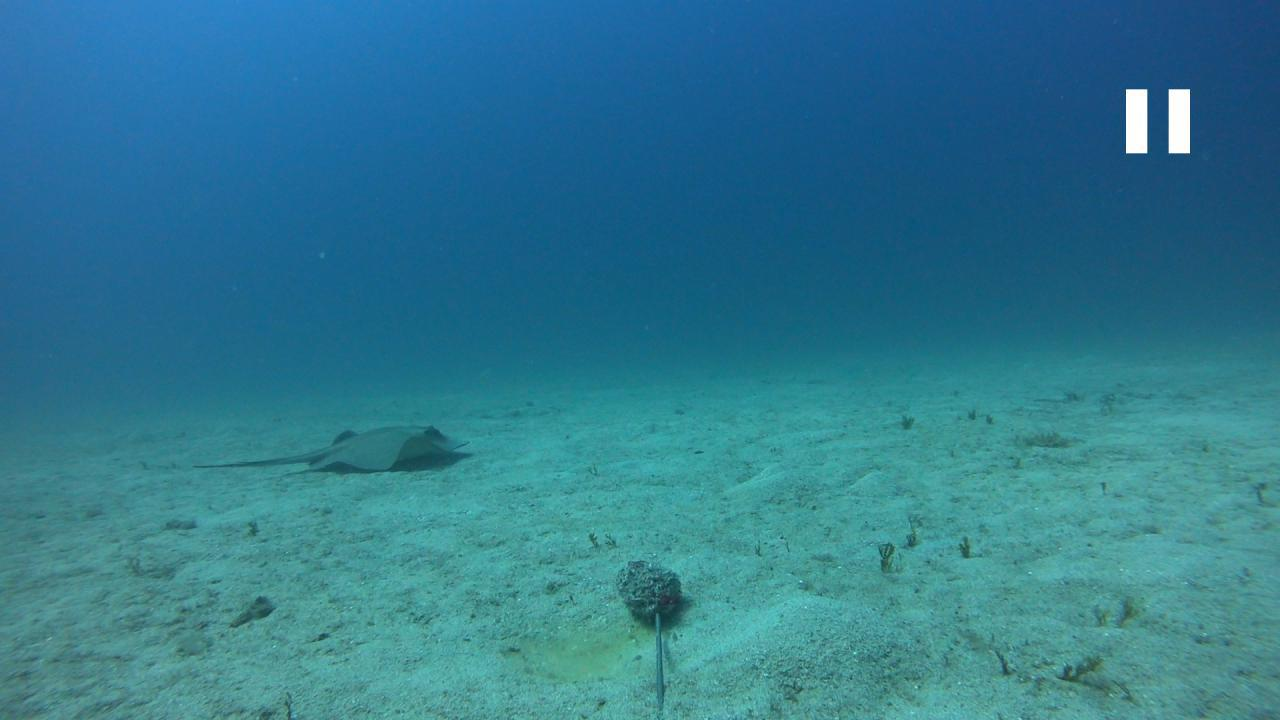dasyatis: (187, 423, 470, 471)
